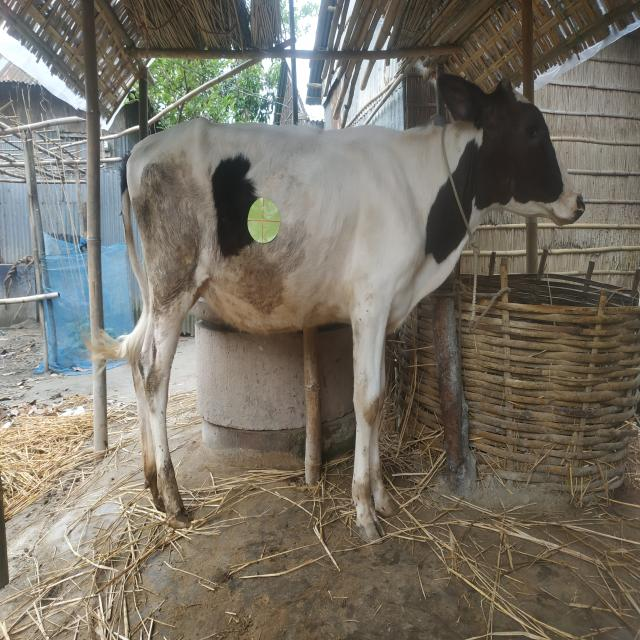badan_sapi: (130, 124, 416, 326)
sapi: (102, 62, 590, 554)
